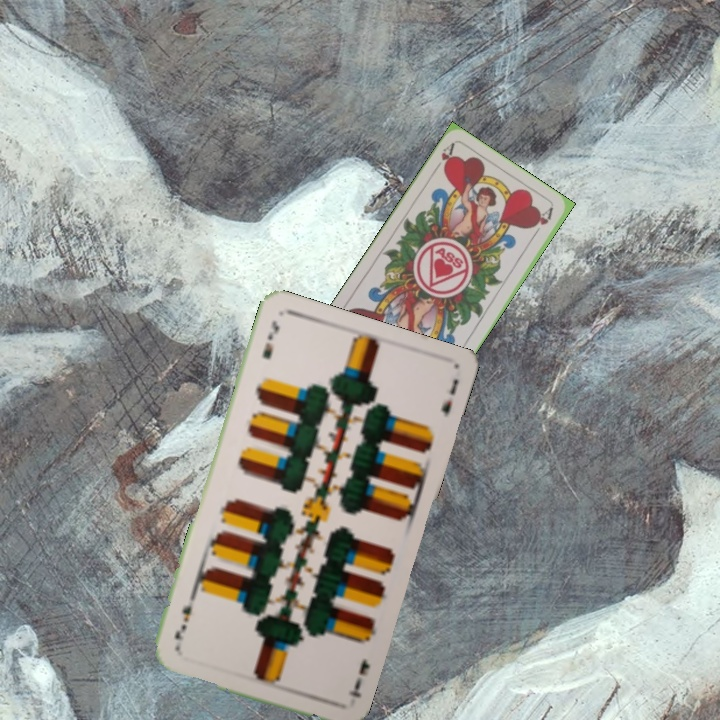E7: (344, 654, 372, 701), (258, 316, 282, 362)
HA: (428, 139, 457, 176)
